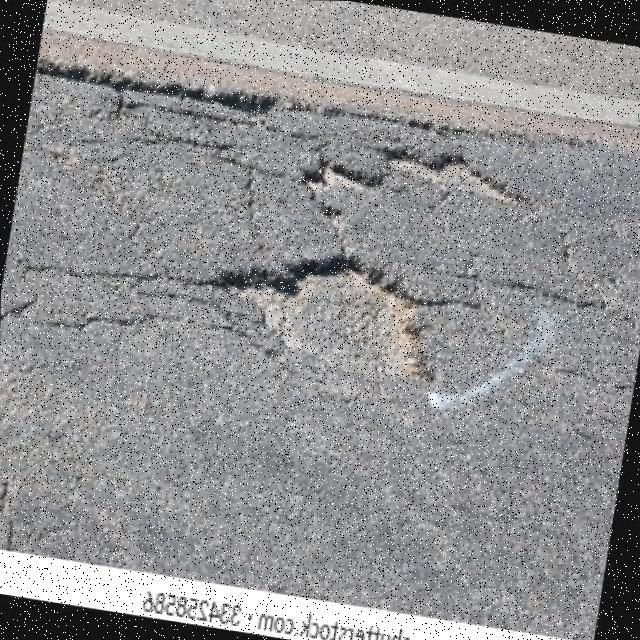Pothole: (202, 258, 437, 386), (394, 143, 520, 203), (309, 164, 366, 198)
